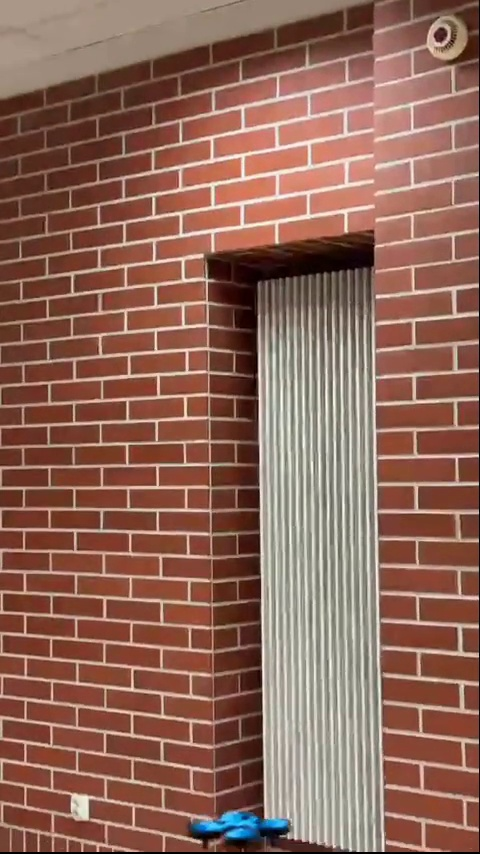drone: (186, 809, 293, 850)
